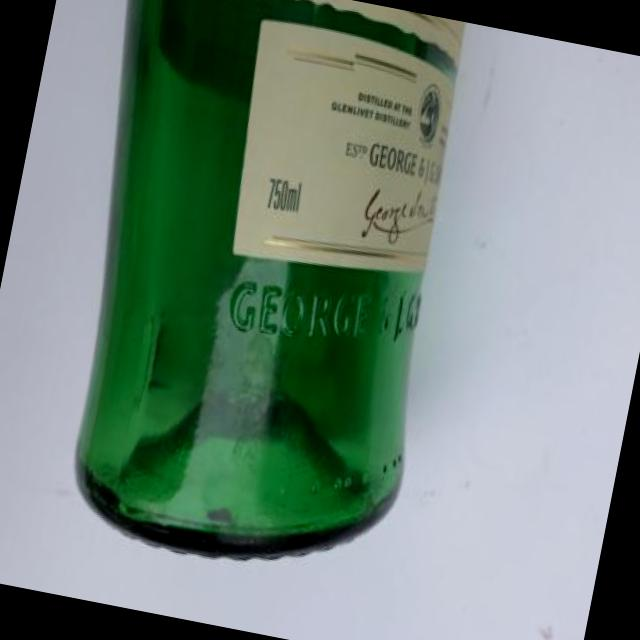chai_thuy_tinh: (75, 0, 464, 558)
